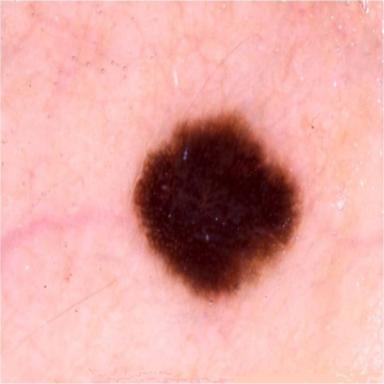nevus: (133, 111, 301, 305)
